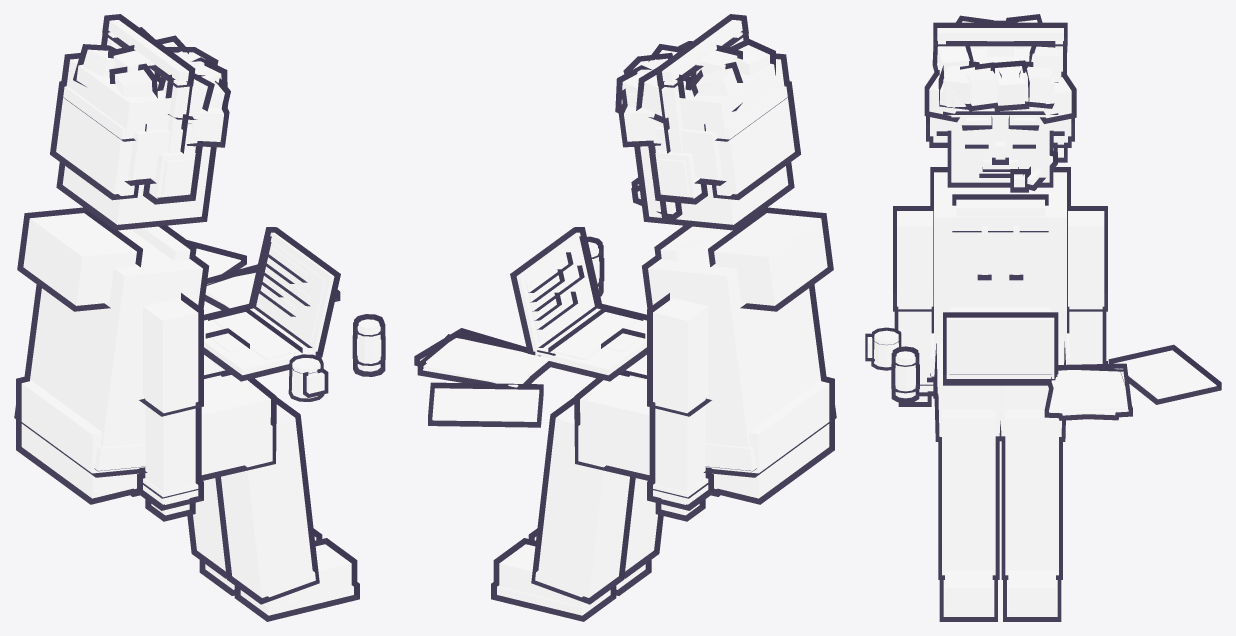
File: npc_worker.glb
3 renders of one model, left to right at view 1: azimuth 30°, elevation 25°; view 2: azimuth 150°, elevation 25°; view 3: azimuth 270°, elevation 25°, orthographic. The views are drawn at different scales.
Visible parts, largest first — view 1: W_Legs, W_Head, W_Torso, W_Props, W_UpperR, W_ForeR, Dw_Mug; view 2: W_Legs, W_Head, W_Torso, W_Props, W_UpperL, W_ForeL; view 3: W_Legs, W_Head, W_Props, W_Torso, W_UpperL, W_UpperR, W_ForeR, W_ForeL, Dw_Mug.
Part boxes in pixels (box(x1,y1,x2,y2)): W_Legs: box(16, 355, 359, 621); W_Head: box(50, 14, 230, 230); W_Torso: box(14, 207, 209, 477); W_Props: box(187, 227, 385, 381); W_UpperR: box(139, 293, 203, 416); W_ForeR: box(137, 396, 203, 521); Dw_Mug: box(288, 354, 328, 401); W_Legs: box(491, 355, 834, 621); W_Head: box(615, 14, 800, 230); W_Torso: box(642, 207, 836, 477); W_Props: box(414, 227, 646, 427); W_UpperL: box(647, 293, 711, 416); W_ForeL: box(647, 396, 713, 521); W_Legs: box(933, 335, 1065, 621); W_Head: box(924, 14, 1076, 192); W_Props: box(891, 312, 1221, 420); W_Torso: box(927, 167, 1070, 382); W_UpperL: box(1067, 206, 1107, 311); W_UpperR: box(893, 206, 933, 311); W_ForeR: box(894, 287, 934, 406); W_ForeL: box(1067, 287, 1107, 364); Dw_Mug: box(865, 327, 901, 370).
Bounding box in the file's own units: 1.07 × 1.81 × 1.13.
